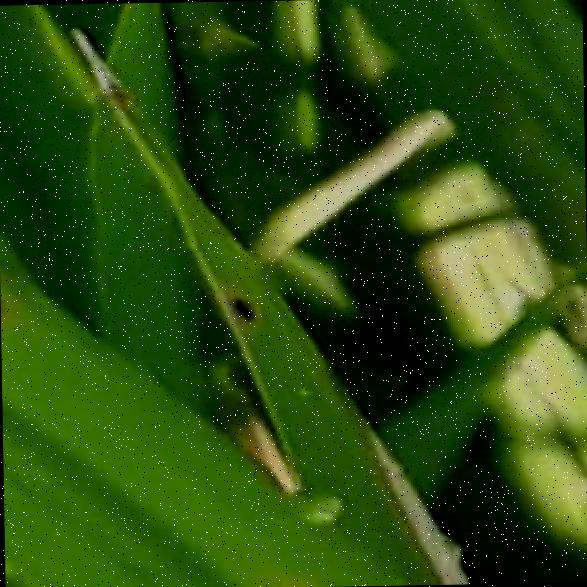Brown_Spot: (216, 282, 268, 330)
